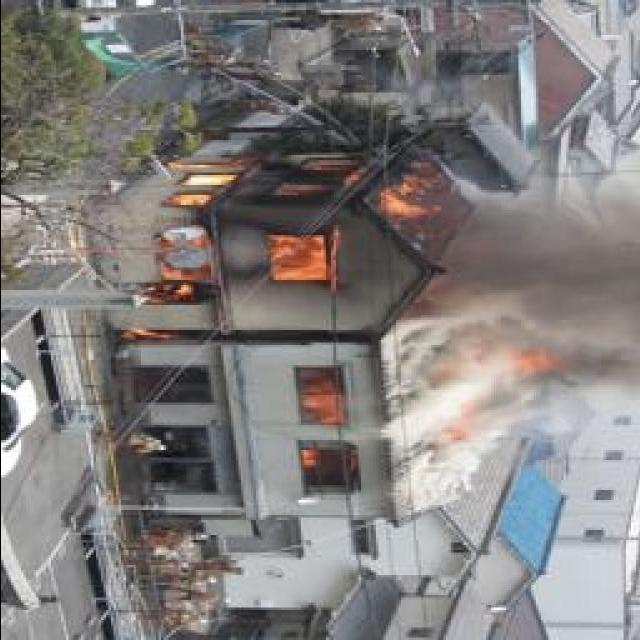Fire: (148, 132, 472, 302), (438, 349, 548, 461), (290, 358, 356, 498)
